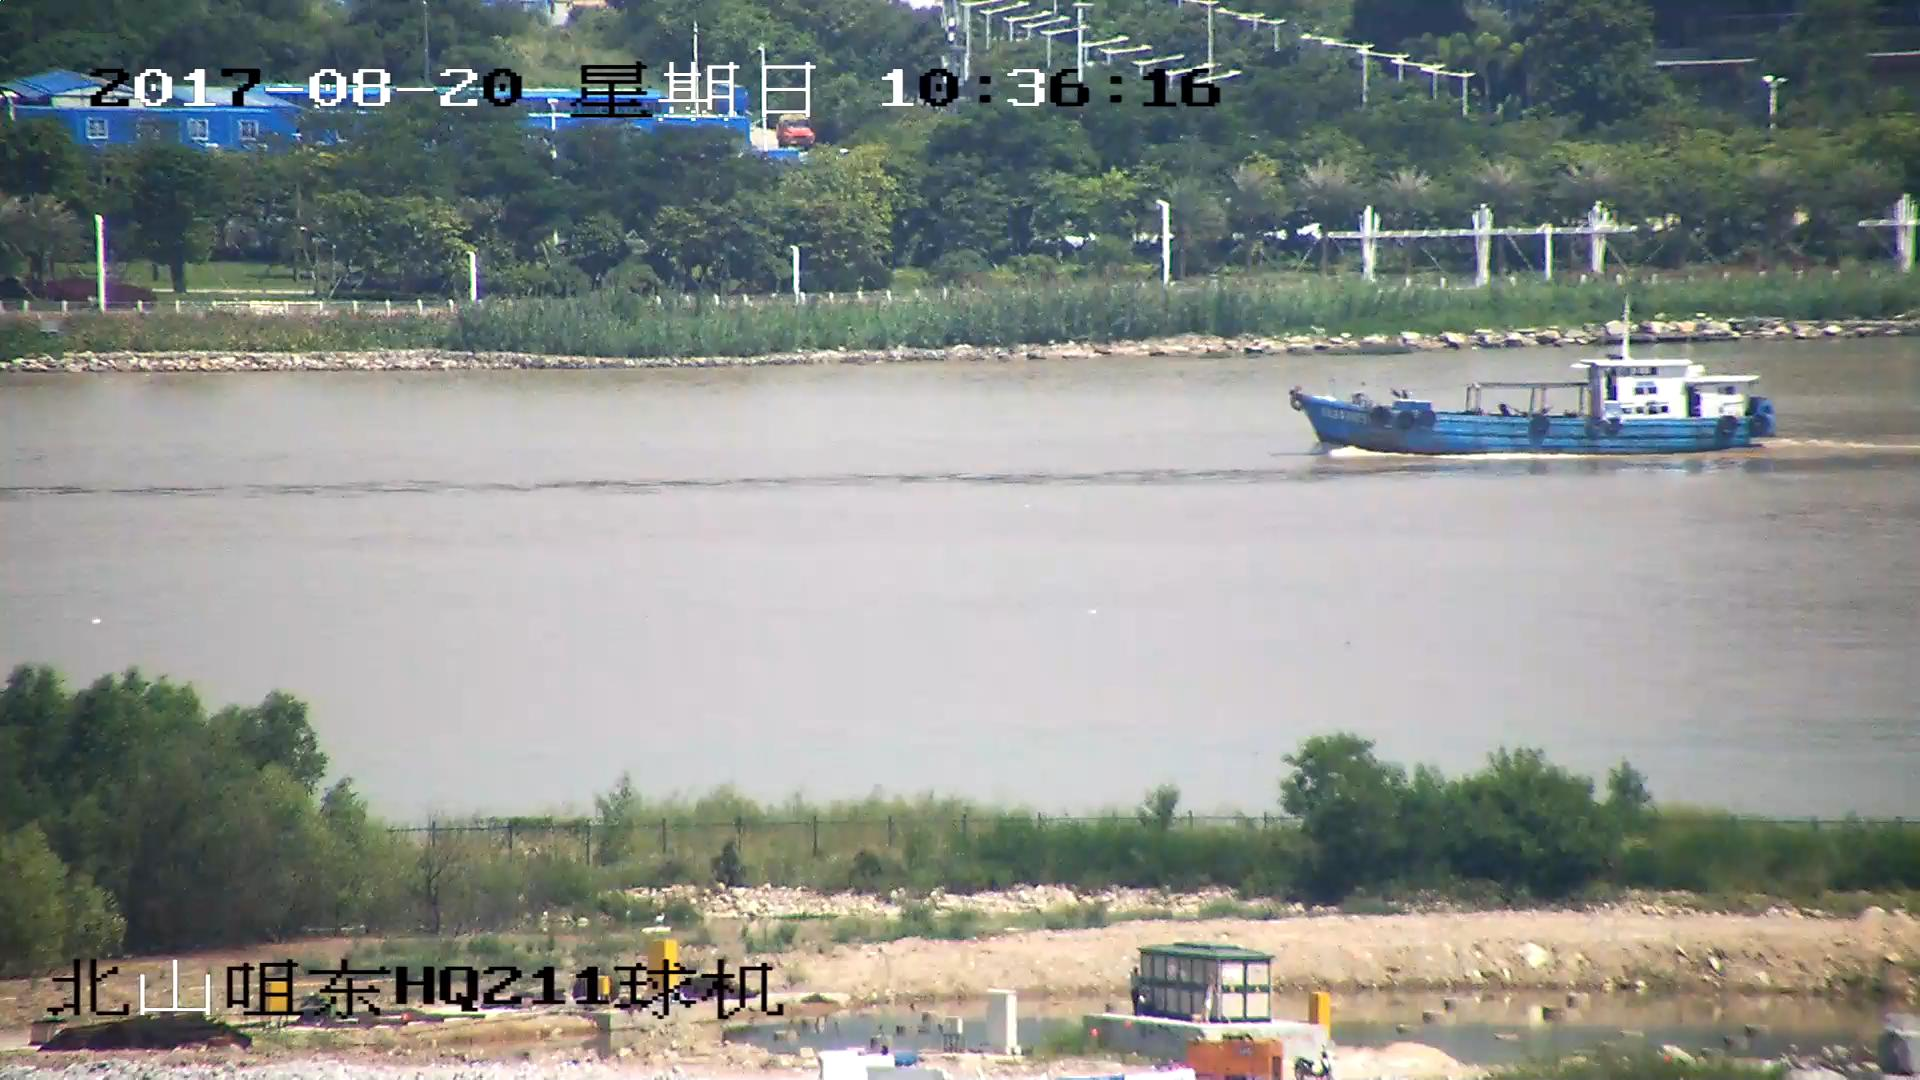fishing boat: (1292, 301, 1769, 456)
